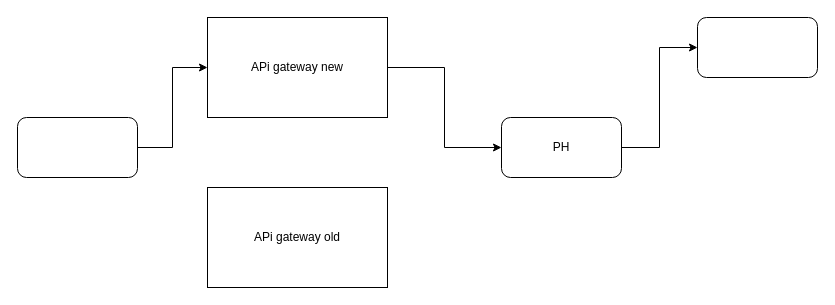
This 835x305 diagram has some shape labels left out. The box of each missing label's shape, as (x1, y1, x2, y2) in pixels:
IPA: (16, 116, 138, 178)
Wiremock new: (696, 16, 818, 78)
